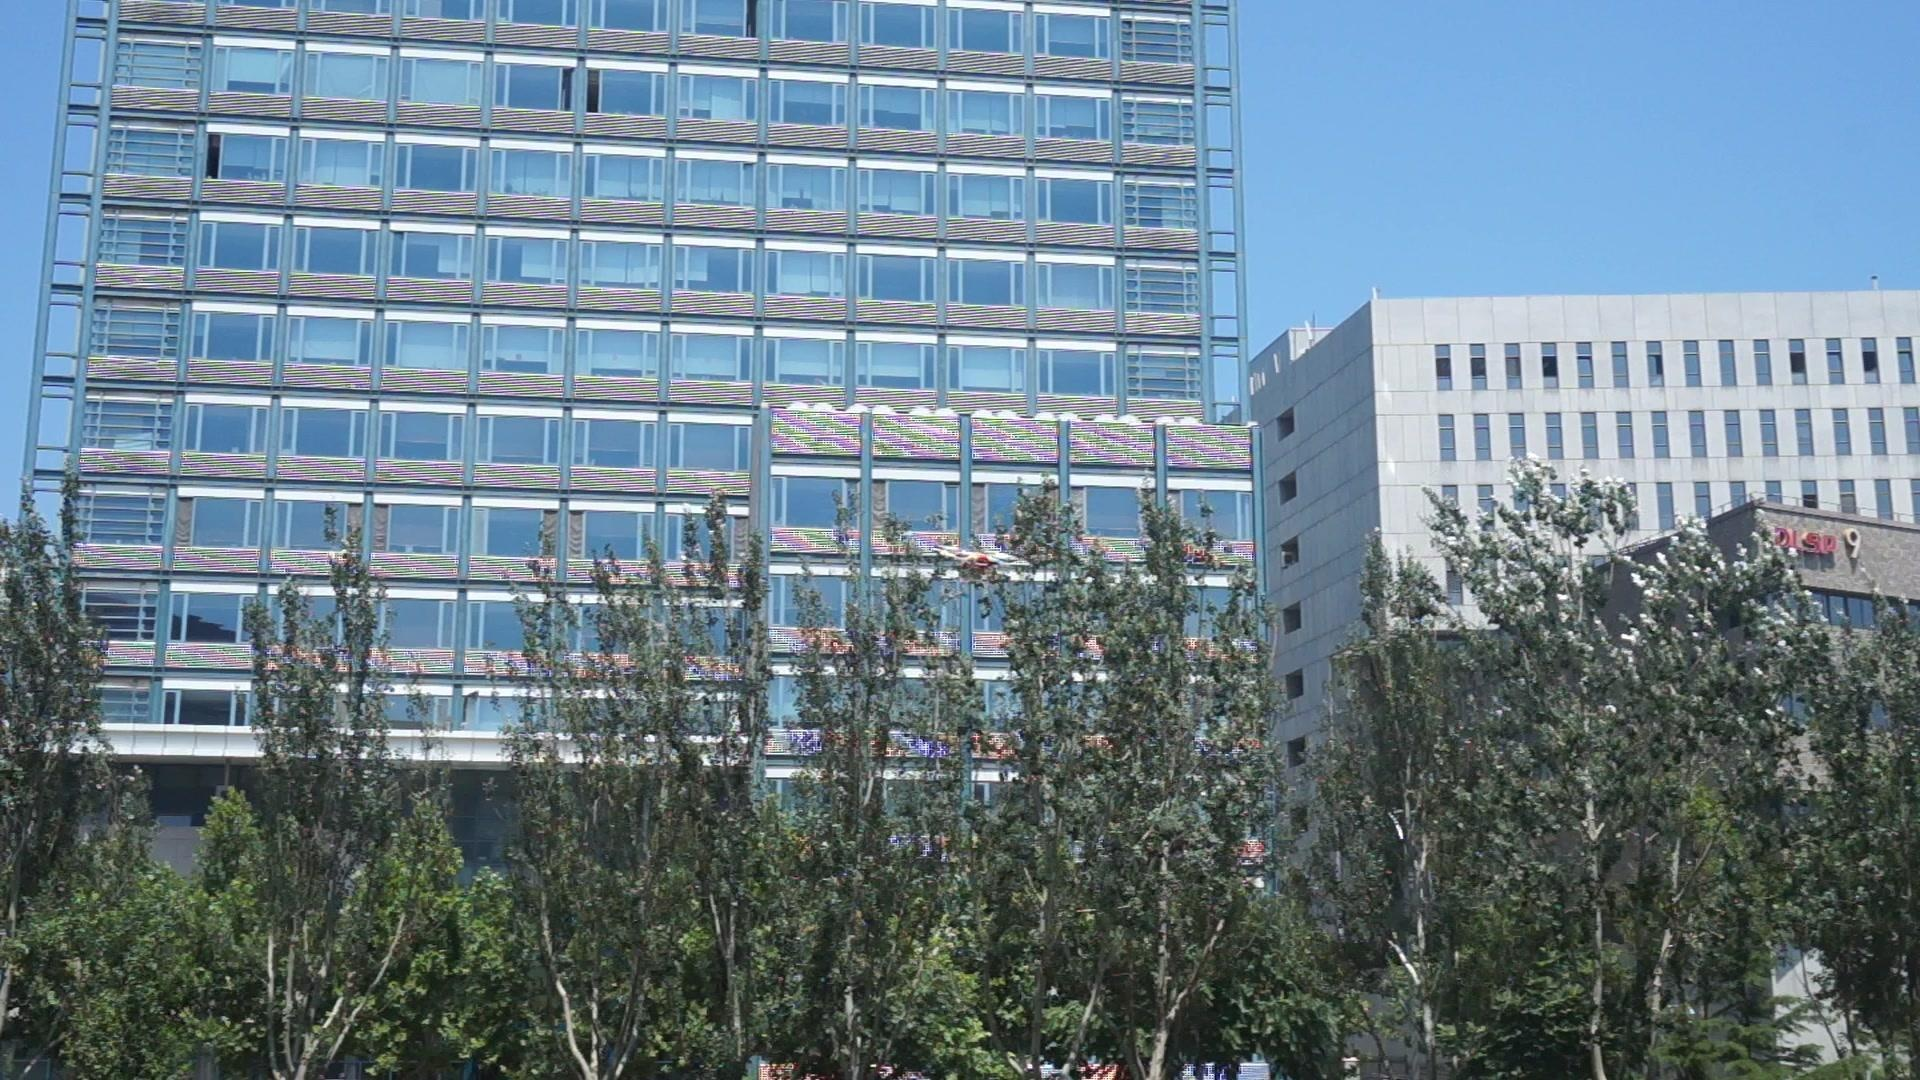UAV: (934, 545, 1031, 587)
